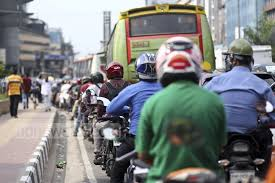helmet: (155, 31, 203, 98), (131, 49, 162, 77), (105, 63, 125, 83)
